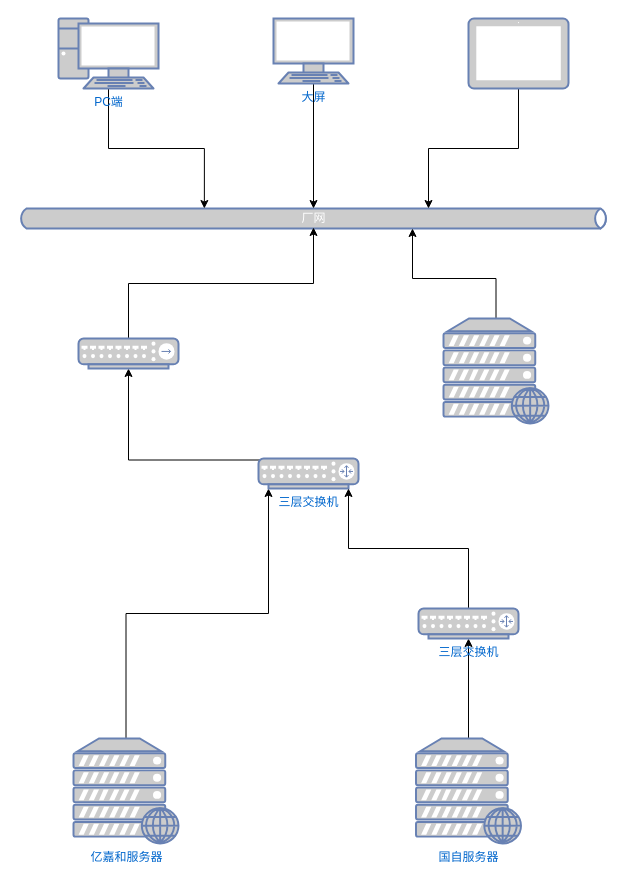
Some shapes in this 626 by 881 pixel diagram are drawn without their labels. Here are the shapes that lost their labels. From the top down, the box of each, then its label:
(467, 17, 569, 89): Pad
(77, 337, 179, 369): 网闸
(442, 317, 549, 424): 三维服务器
